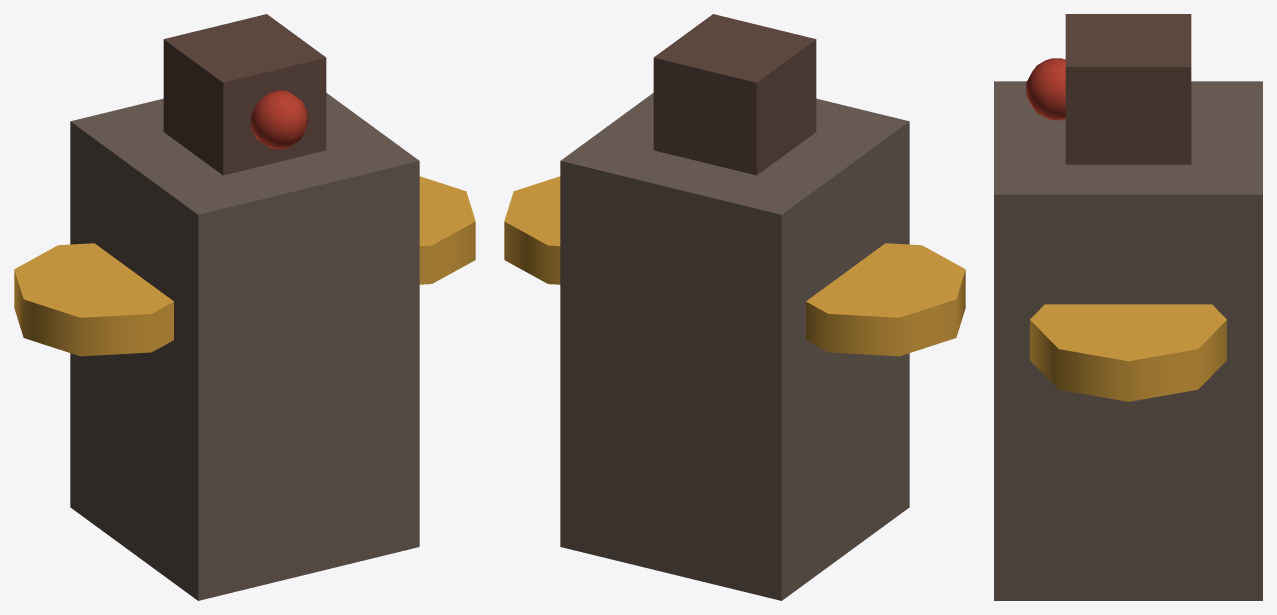
The model's file is ji_guan.glb.
3 renders of one model, left to right at view 1: azimuth 30°, elevation 25°; view 2: azimuth 150°, elevation 25°; view 3: azimuth 270°, elevation 25°, orthographic. The views are drawn at different scales.
Visible parts, largest first — view 1: _MeshInstance3D_29, _MeshInstance3D_32, _MeshInstance3D_31, _MeshInstance3D_30, _MeshInstance3D_33; view 2: _MeshInstance3D_29, _MeshInstance3D_32, _MeshInstance3D_31, _MeshInstance3D_30; view 3: _MeshInstance3D_29, _MeshInstance3D_32, _MeshInstance3D_30, _MeshInstance3D_33.
Part boxes in pixels (x1,y1,x2,y2): _MeshInstance3D_29: (70, 93, 419, 600); _MeshInstance3D_32: (163, 14, 326, 175); _MeshInstance3D_31: (14, 243, 173, 356); _MeshInstance3D_30: (419, 176, 475, 284); _MeshInstance3D_33: (251, 90, 307, 149); _MeshInstance3D_29: (560, 93, 909, 600); _MeshInstance3D_32: (653, 14, 816, 175); _MeshInstance3D_31: (806, 243, 965, 356); _MeshInstance3D_30: (504, 176, 560, 284); _MeshInstance3D_29: (994, 81, 1262, 600); _MeshInstance3D_32: (1065, 14, 1191, 164); _MeshInstance3D_30: (1030, 304, 1226, 401); _MeshInstance3D_33: (1026, 58, 1065, 120).
Bounding box in the file's own units: 0.6 × 0.62 × 0.3.
